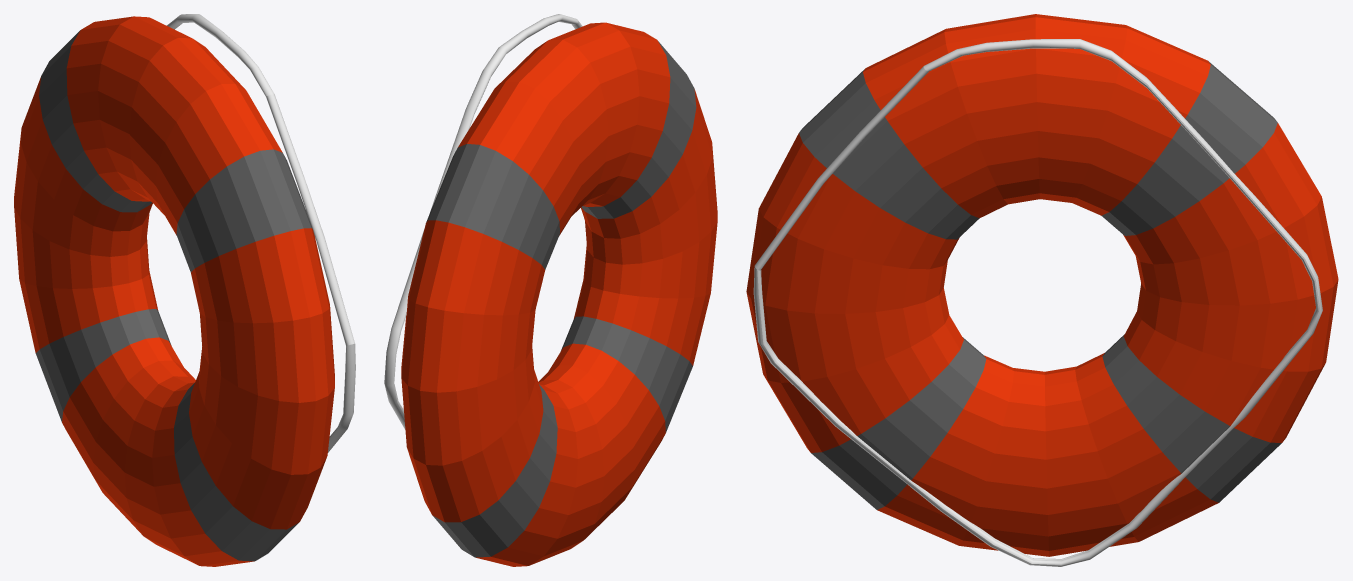
Rendered from Salvav.fbx.
3 views of the same model, side by side, from view 1: azimuth 30°, elevation 25°; view 2: azimuth 150°, elevation 25°; view 3: azimuth 270°, elevation 25° (orthographic). The views are drawn at different scales.
Visible parts, largest first — view 1: pTorus1, pCylinder1; view 2: pTorus1, pCylinder1; view 3: pTorus1, pCylinder1.
Boxes of the visible parts, left/top/right/bottom form: pTorus1: left=14, top=16, right=334, bottom=566; pCylinder1: left=167, top=14, right=355, bottom=452; pTorus1: left=401, top=22, right=717, bottom=566; pCylinder1: left=384, top=14, right=582, bottom=429; pTorus1: left=746, top=14, right=1338, bottom=556; pCylinder1: left=753, top=39, right=1322, bottom=566.
Size of the model in its own units: 1.36 by 7 by 7.
